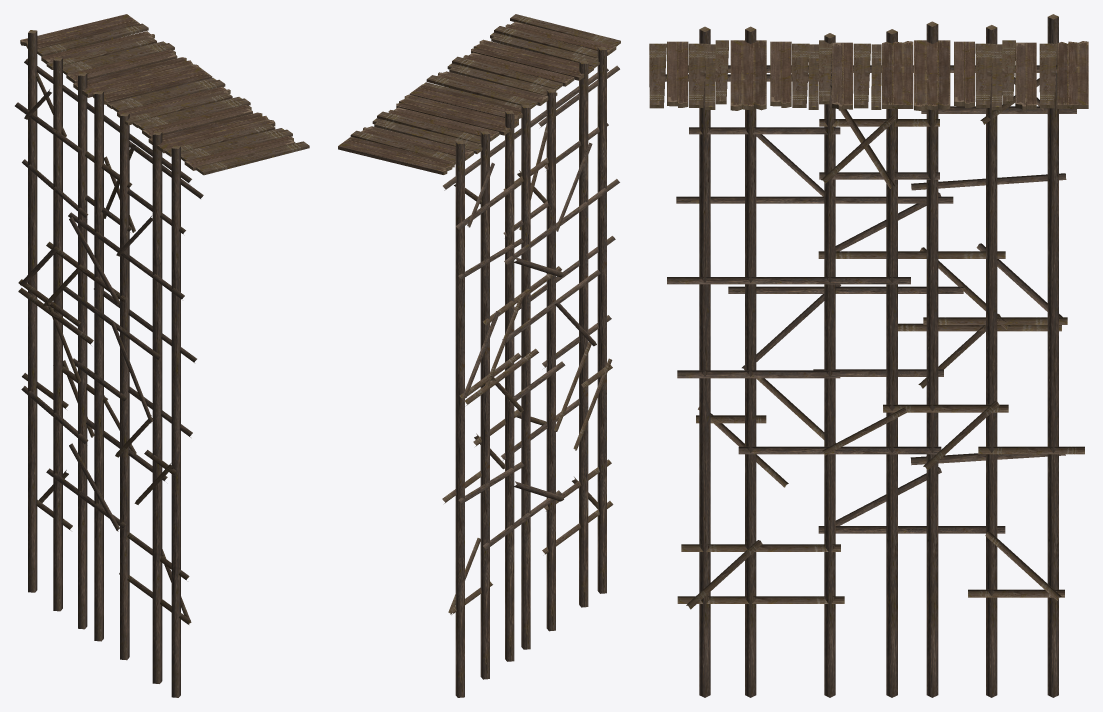
Rendered from i_hl_gaojiazi01_lod1.FBX.
3 renders of one model, left to right at view 1: azimuth 30°, elevation 25°; view 2: azimuth 150°, elevation 25°; view 3: azimuth 270°, elevation 25°, orthographic. The views are drawn at different scales.
Visible parts, largest first — view 1: i_hl_gaojiazi01_lod1; view 2: i_hl_gaojiazi01_lod1; view 3: i_hl_gaojiazi01_lod1.
Part boxes in pixels (x1,y1,x2,y2): i_hl_gaojiazi01_lod1: (15, 14, 309, 697); i_hl_gaojiazi01_lod1: (338, 14, 620, 697); i_hl_gaojiazi01_lod1: (649, 14, 1088, 697).
Size of the model in its own units: 7.92 by 34.76 by 20.41.
